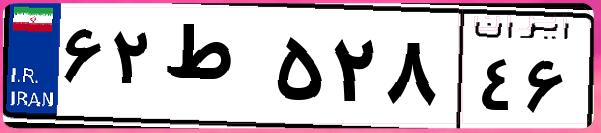2: (330, 28, 385, 110), (110, 28, 158, 98)
4: (475, 38, 525, 113)
5: (270, 28, 330, 110)
6: (57, 26, 110, 100), (525, 38, 570, 115)
8: (385, 28, 445, 110)
ط: (158, 20, 270, 120)
